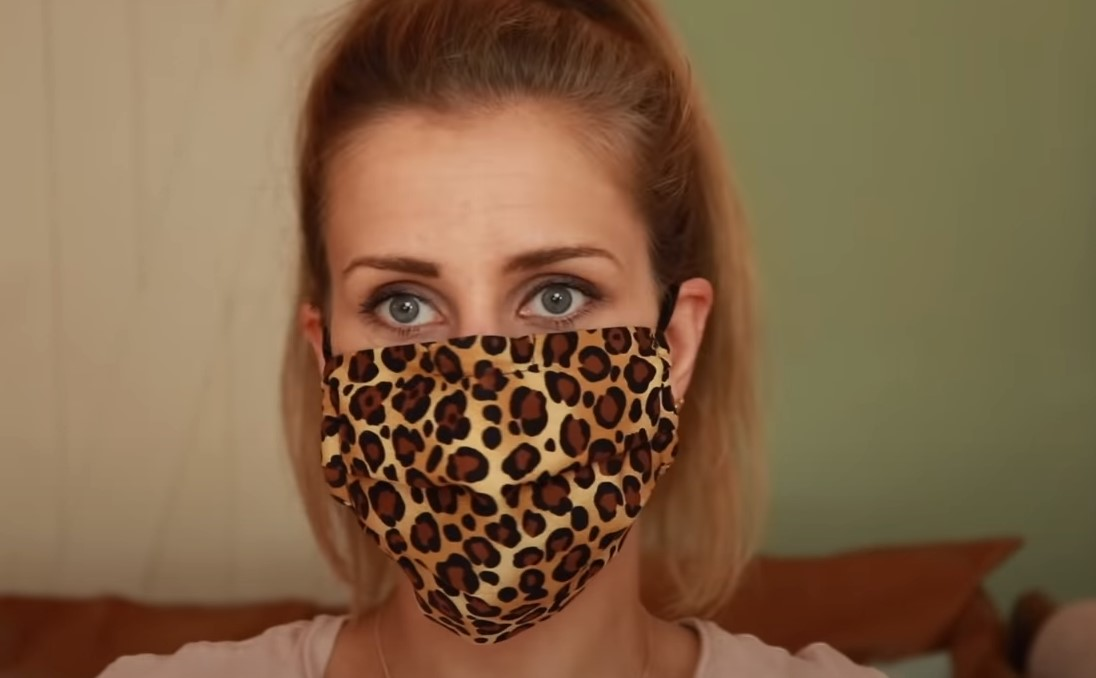face_with_mask: (305, 15, 711, 646)
